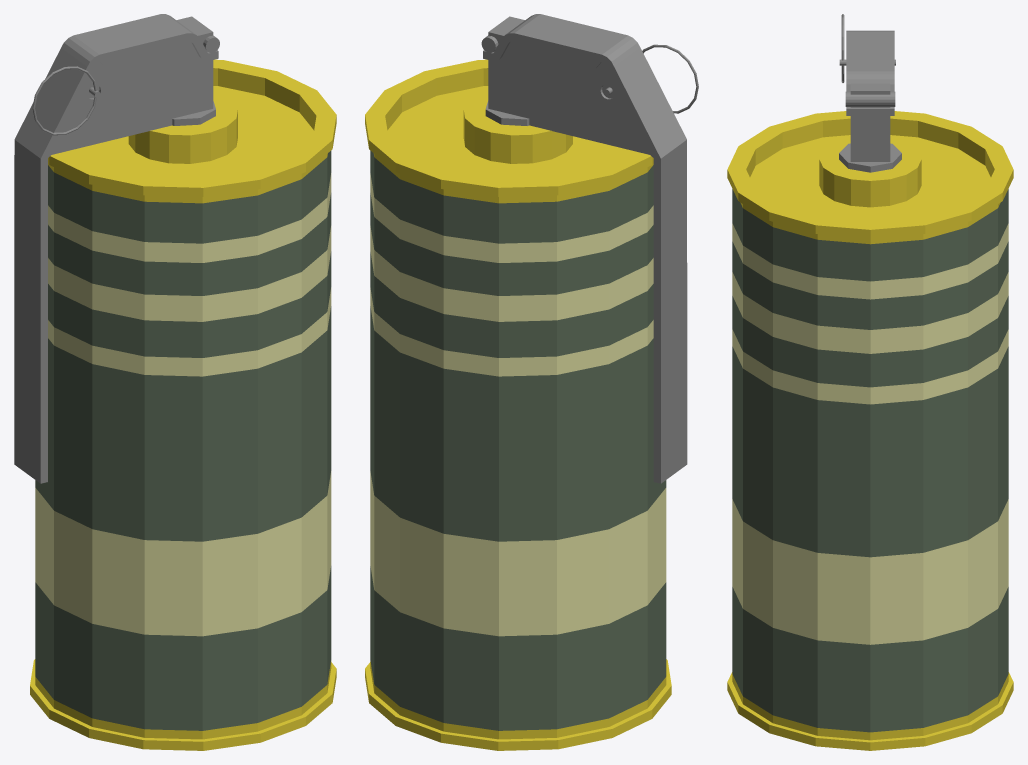
Rendered from Smoke Grenade.fbx.
The picture shows the model from 3 angles, left to right: view 1: azimuth 30°, elevation 25°; view 2: azimuth 150°, elevation 25°; view 3: azimuth 270°, elevation 25°; orthographic projection. The views are drawn at different scales.
Visible parts, largest first — view 1: Smoke Grenade, Smoke Handle, Smoke Top, Smoke Pin; view 2: Smoke Grenade, Smoke Handle, Smoke Top; view 3: Smoke Grenade, Smoke Top, Smoke Handle.
Boxes of the visible parts, x1=… form: Smoke Grenade: x1=30, y1=59, x2=336, y2=750; Smoke Handle: x1=14, y1=14, x2=218, y2=483; Smoke Top: x1=52, y1=16, x2=219, y2=154; Smoke Pin: x1=32, y1=66, x2=100, y2=135; Smoke Grenade: x1=365, y1=59, x2=671, y2=750; Smoke Handle: x1=483, y1=14, x2=687, y2=483; Smoke Top: x1=481, y1=16, x2=649, y2=154; Smoke Grenade: x1=727, y1=111, x2=1013, y2=750; Smoke Top: x1=839, y1=83, x2=901, y2=172; Smoke Handle: x1=846, y1=30, x2=894, y2=115.
Size of the model in its own units: 76.53 by 162 by 68.45.
